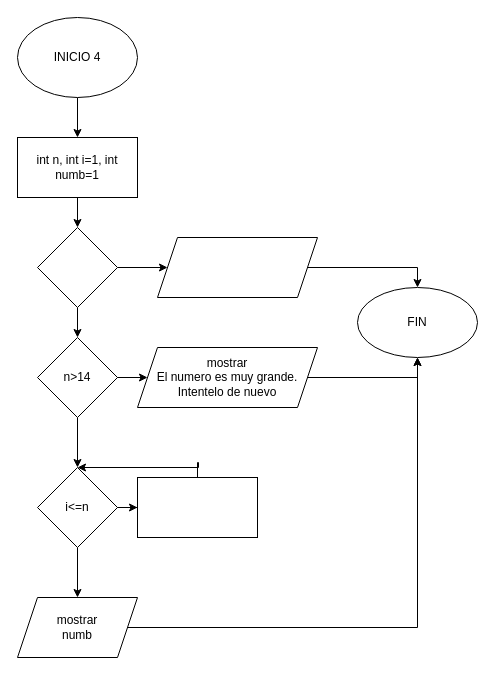
Image size: 495x675. Some labels were removed from this diagram. The shapes that lost their labels are listed below. From the top down, each one's box as (x1, y1, x2, y2) in pixels, then its label:
(36, 226, 118, 308): n<0
(156, 236, 318, 298): mostrar El numero es negativo. Intentelo de nuevo
(136, 476, 258, 538): numb=numb*i,I++
